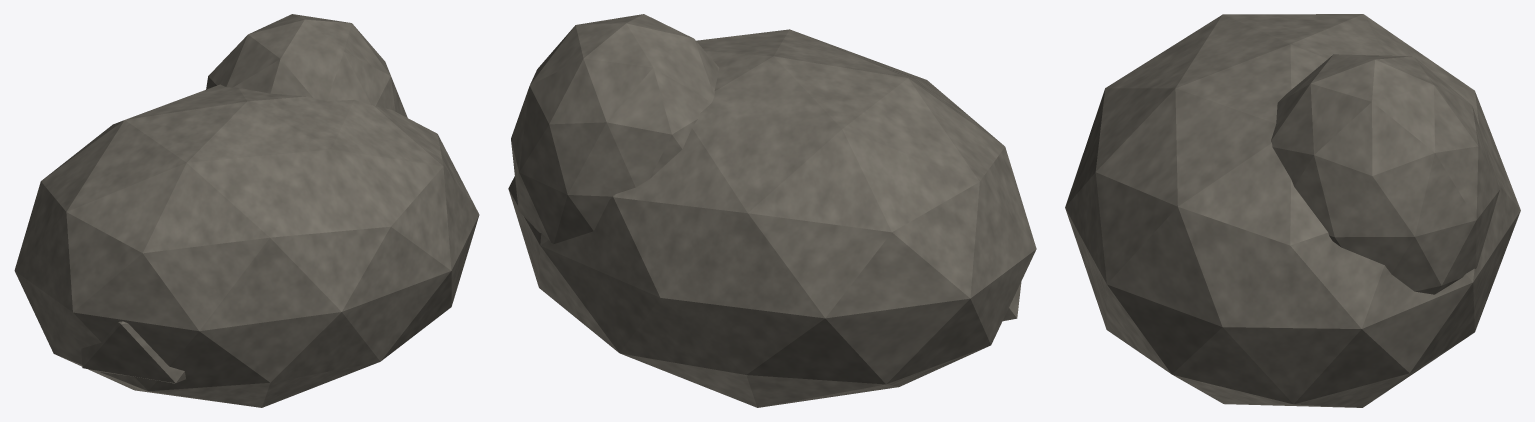
File: rock_outcrop.glb
3 renders of one model, left to right at view 1: azimuth 30°, elevation 25°; view 2: azimuth 150°, elevation 25°; view 3: azimuth 270°, elevation 25°, orthographic. The views are drawn at different scales.
Visible parts, largest first — view 1: Rock; view 2: Rock; view 3: Rock.
Boxes of the visible parts, x1,y1,x2,y2 form: Rock: (14, 14, 479, 407); Rock: (508, 14, 1036, 407); Rock: (1065, 14, 1520, 407).
Bounding box in the file's own units: 26.64 × 19.86 × 22.04.
1 material, 1 textured.
